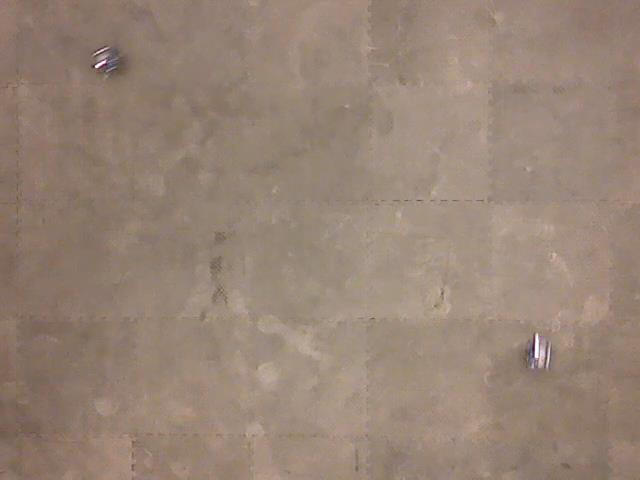Agent: (521, 329, 556, 375), (89, 43, 124, 78)
